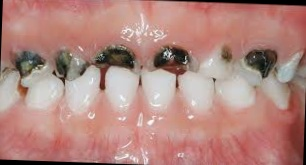Caries: (8, 38, 202, 86), (212, 43, 278, 82)
